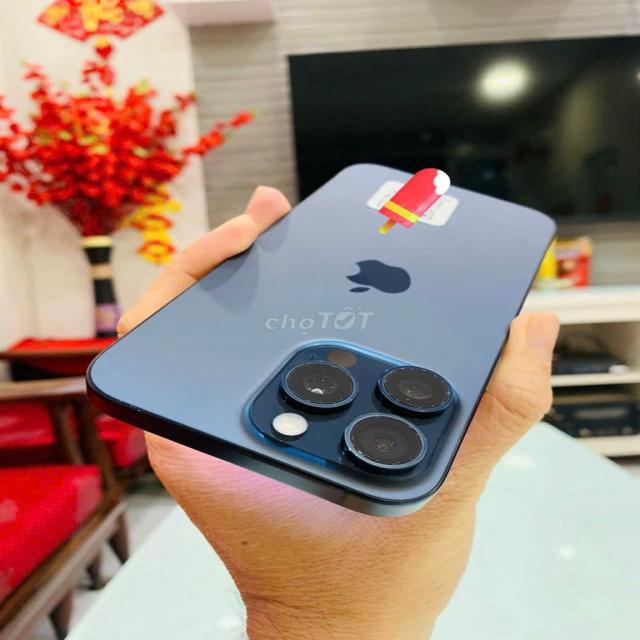scratch: (281, 351, 463, 483)
